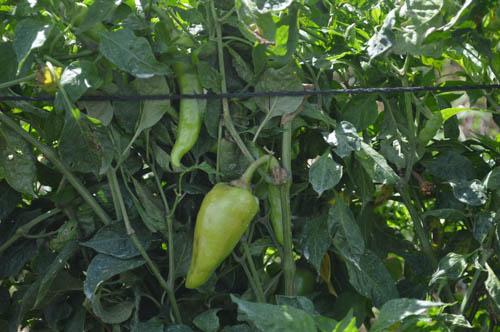ChiliPepper: (180, 184, 258, 301), (168, 56, 205, 170)
